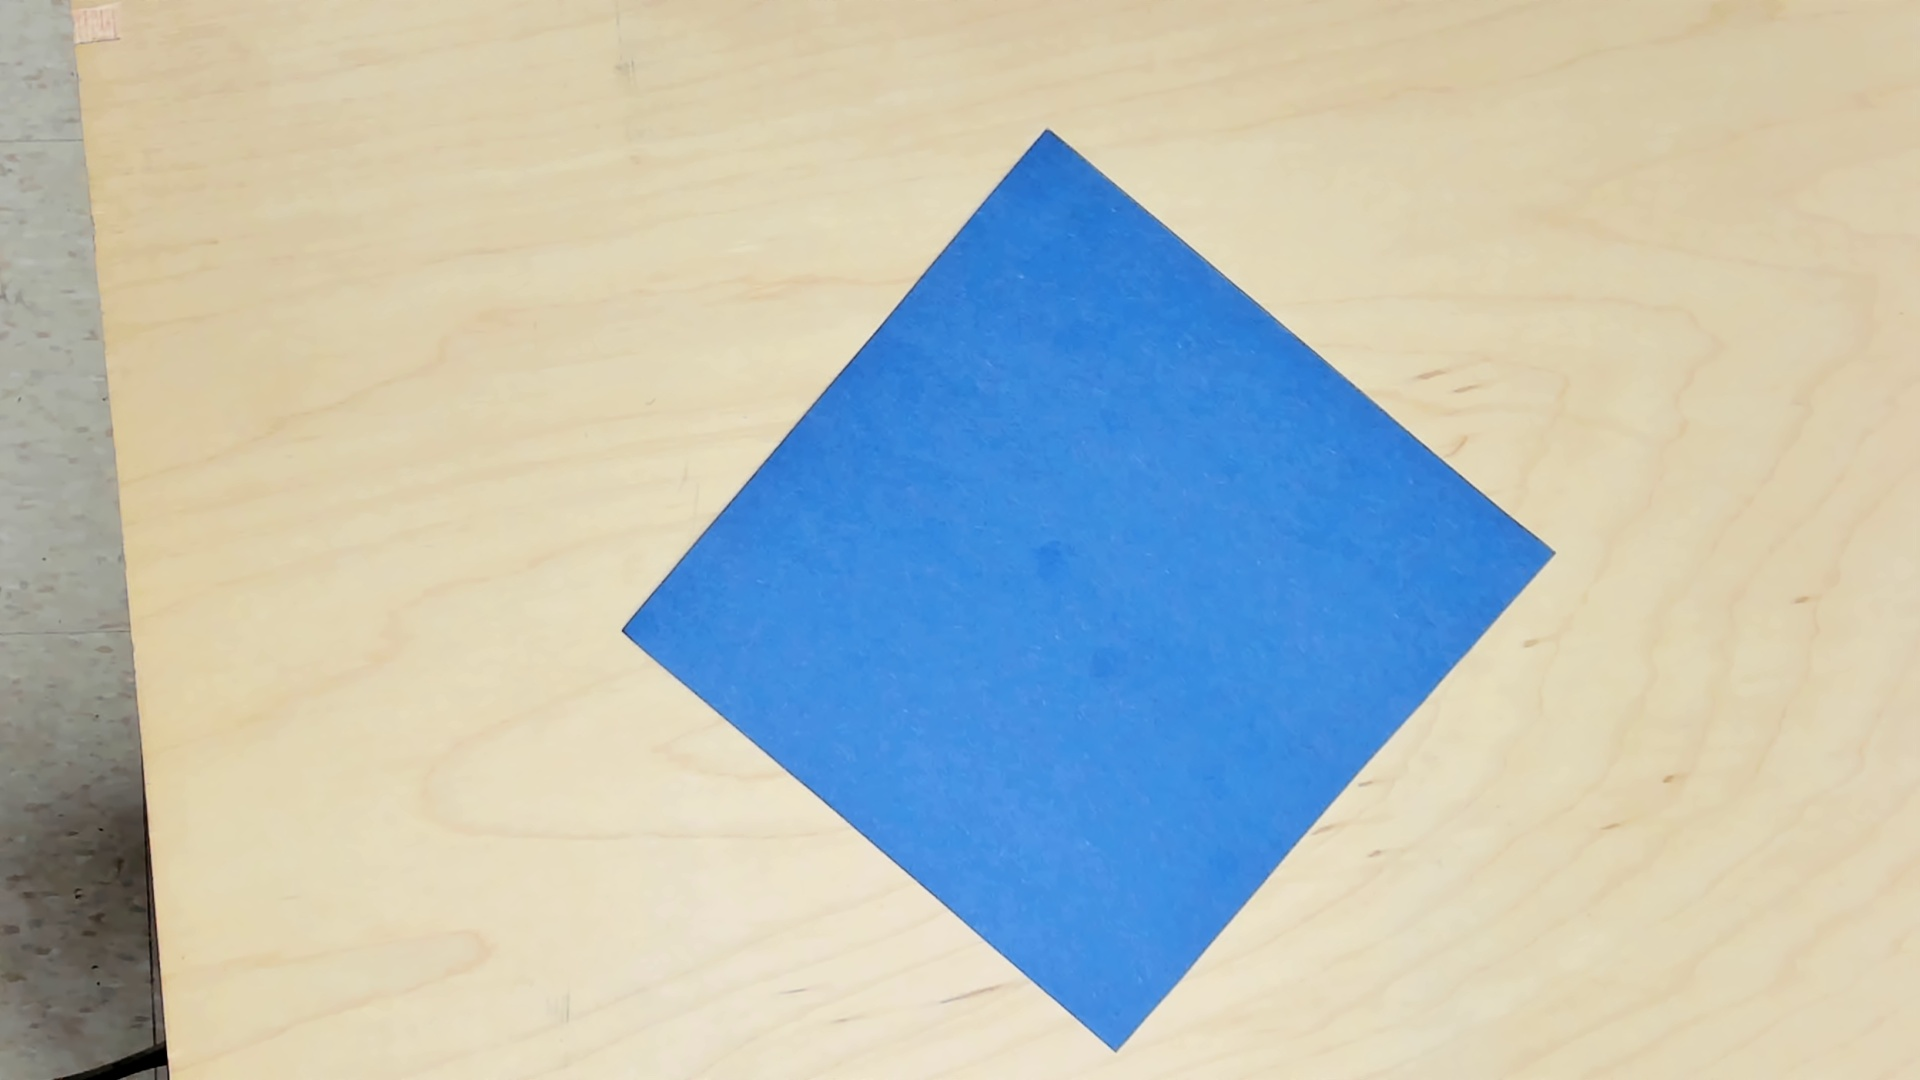BS: (616, 127, 1563, 1058)
